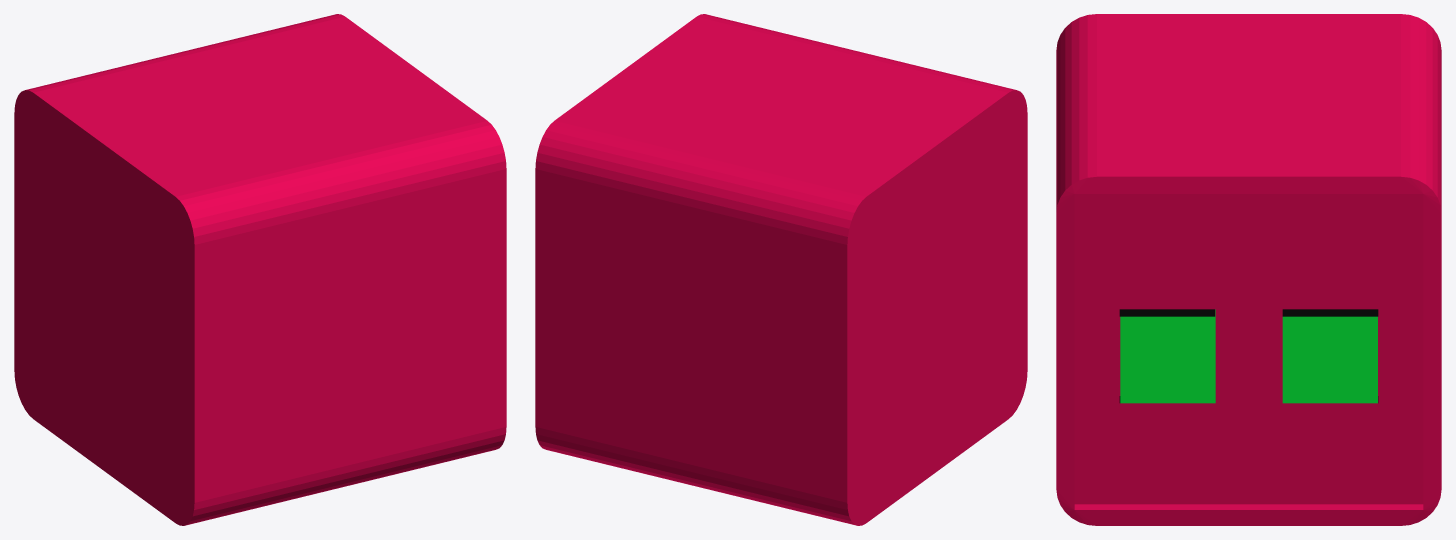
3 renders of one model, left to right at view 1: azimuth 30°, elevation 25°; view 2: azimuth 150°, elevation 25°; view 3: azimuth 270°, elevation 25°, orthographic. The views are drawn at different scales.
Visible parts, largest first — view 1: Cube; view 2: Cube; view 3: Cube.
Boxes of the visible parts, box(x1,y1,x2,y2) form: Cube: box(14, 14, 506, 525); Cube: box(535, 14, 1027, 525); Cube: box(1056, 14, 1441, 525).
Size of the model in its own units: 2.03 by 2 by 2.
